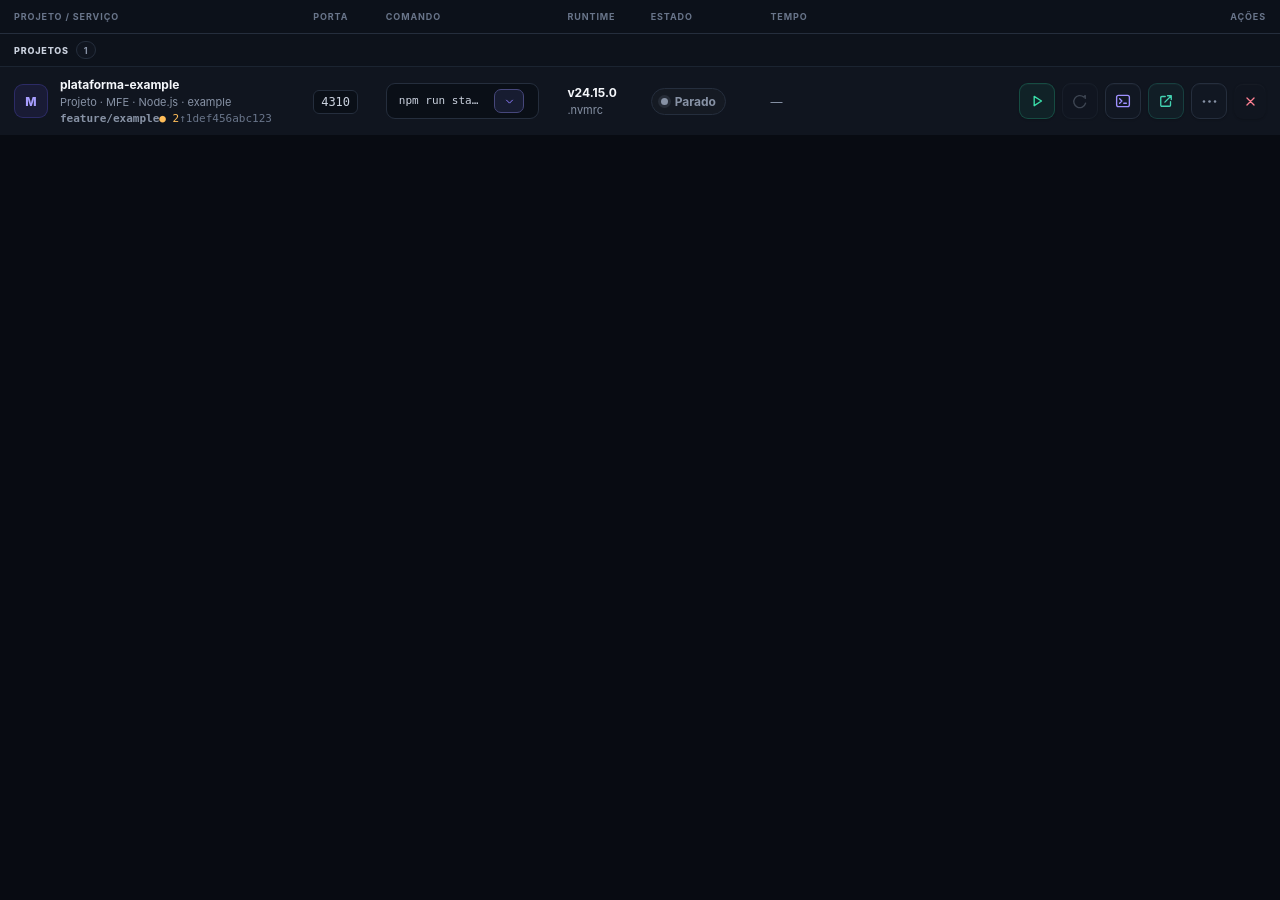
Test case: ProcessTableComponent › renders the options menu as a viewport overlay and closes it outside
What coordinates should you click on to do the following:
click the button with class "icon-button--more"
I would click on:
 (1209, 101)
Its box is [1191, 83, 1227, 119].
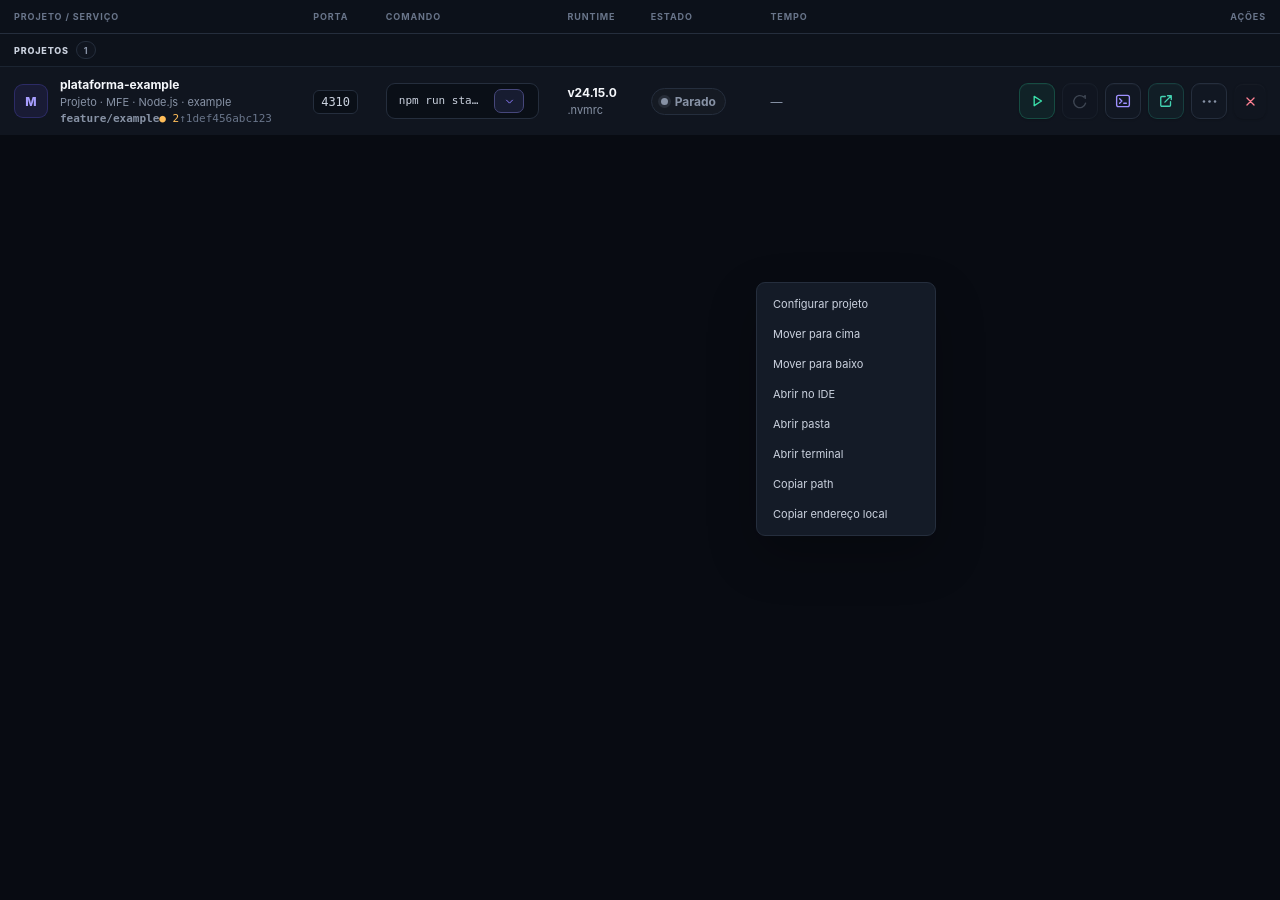
What coordinates should you click on to do the following:
click the element that starts with "Projeto / serviço"
I would click on:
 (640, 450)
Its box is [0, 0, 1279, 899].
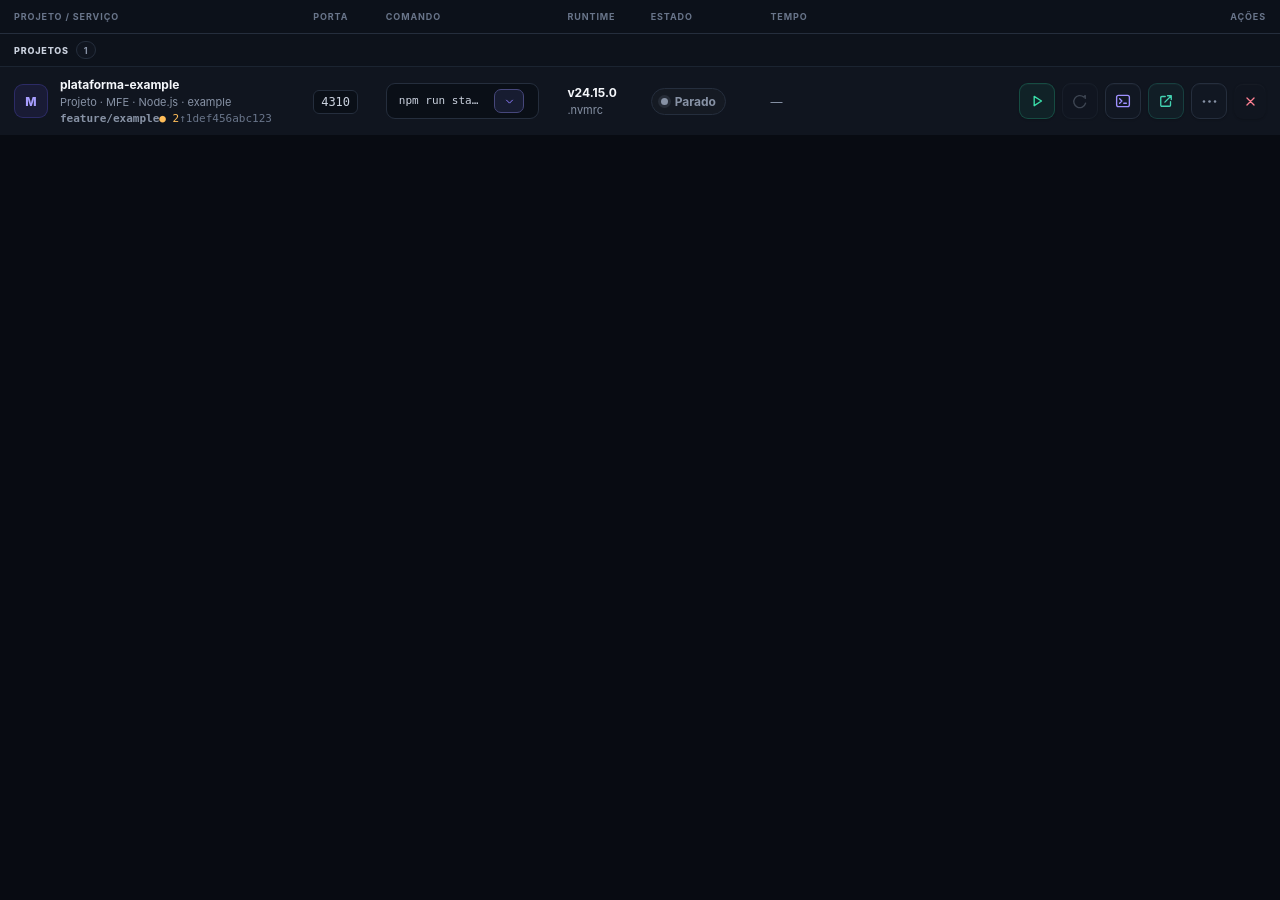
Check: the menu with class "tool-menu__panel" is gone
